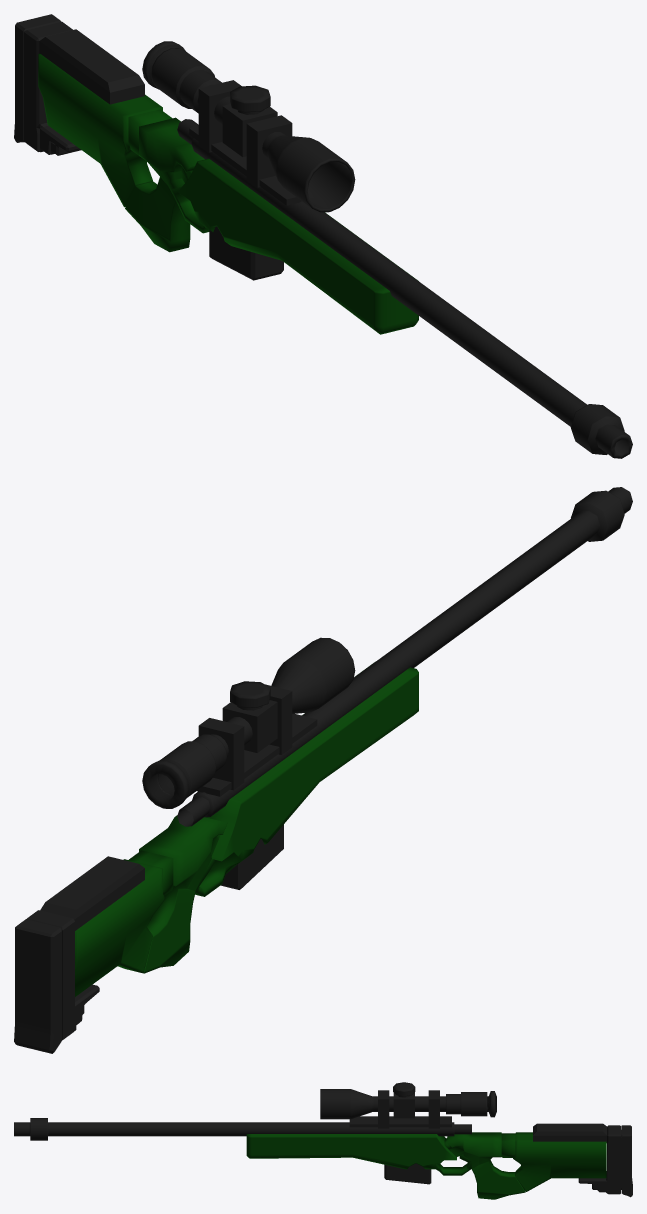
Rendered from AWM.fbx.
3 views of the same model, one above another, from view 1: azimuth 30°, elevation 25°; view 2: azimuth 150°, elevation 25°; view 3: azimuth 270°, elevation 25° (orthographic). The views are drawn at different scales.
Parts seen in each view (by area): view 1: Cube.001, Cylinder, Cube, Plane, Cube.002; view 2: Cube.001, Cylinder, Cube, Plane, Cube.002; view 3: Cube.001, Cube, Cylinder, Plane, Cube.002.
Part boxes in pixels (<box>): Cube.001: <box>38,53,418,334</box>; Cylinder: <box>142,41,355,212</box>; Cube: <box>177,119,632,458</box>; Plane: <box>14,14,144,155</box>; Cube.002: <box>209,226,283,280</box>; Cube.001: <box>75,661,418,996</box>; Cylinder: <box>142,637,355,808</box>; Cube: <box>177,487,632,826</box>; Plane: <box>14,856,144,1053</box>; Cube.002: <box>220,824,283,889</box>; Cube.001: <box>246,1132,606,1199</box>; Cube: <box>14,1118,471,1140</box>; Cylinder: <box>320,1082,496,1128</box>; Plane: <box>533,1123,632,1197</box>; Cube.002: <box>384,1163,431,1184</box>.
Size of the model in its own units: 5.6 by 22.39 by 114.
